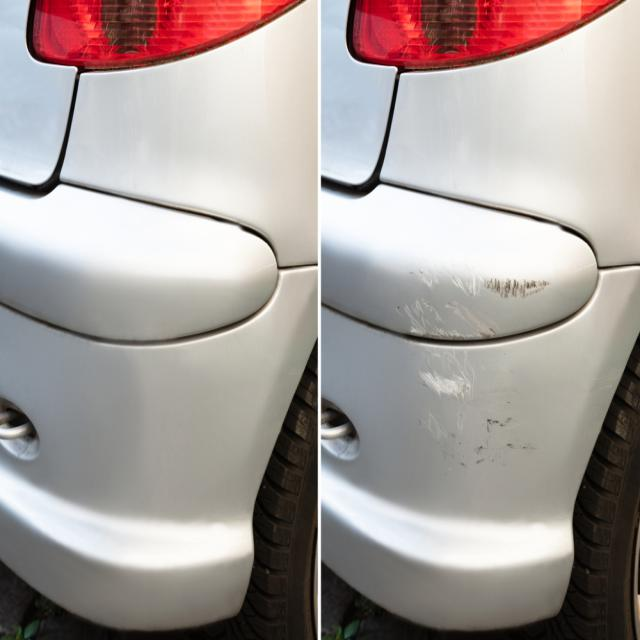scratch: (419, 346, 535, 466), (405, 265, 554, 340)
